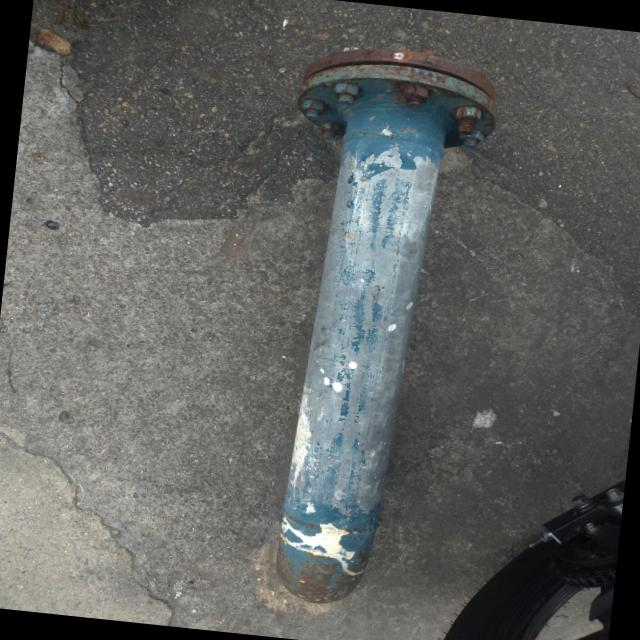gas: (276, 112, 445, 600)
